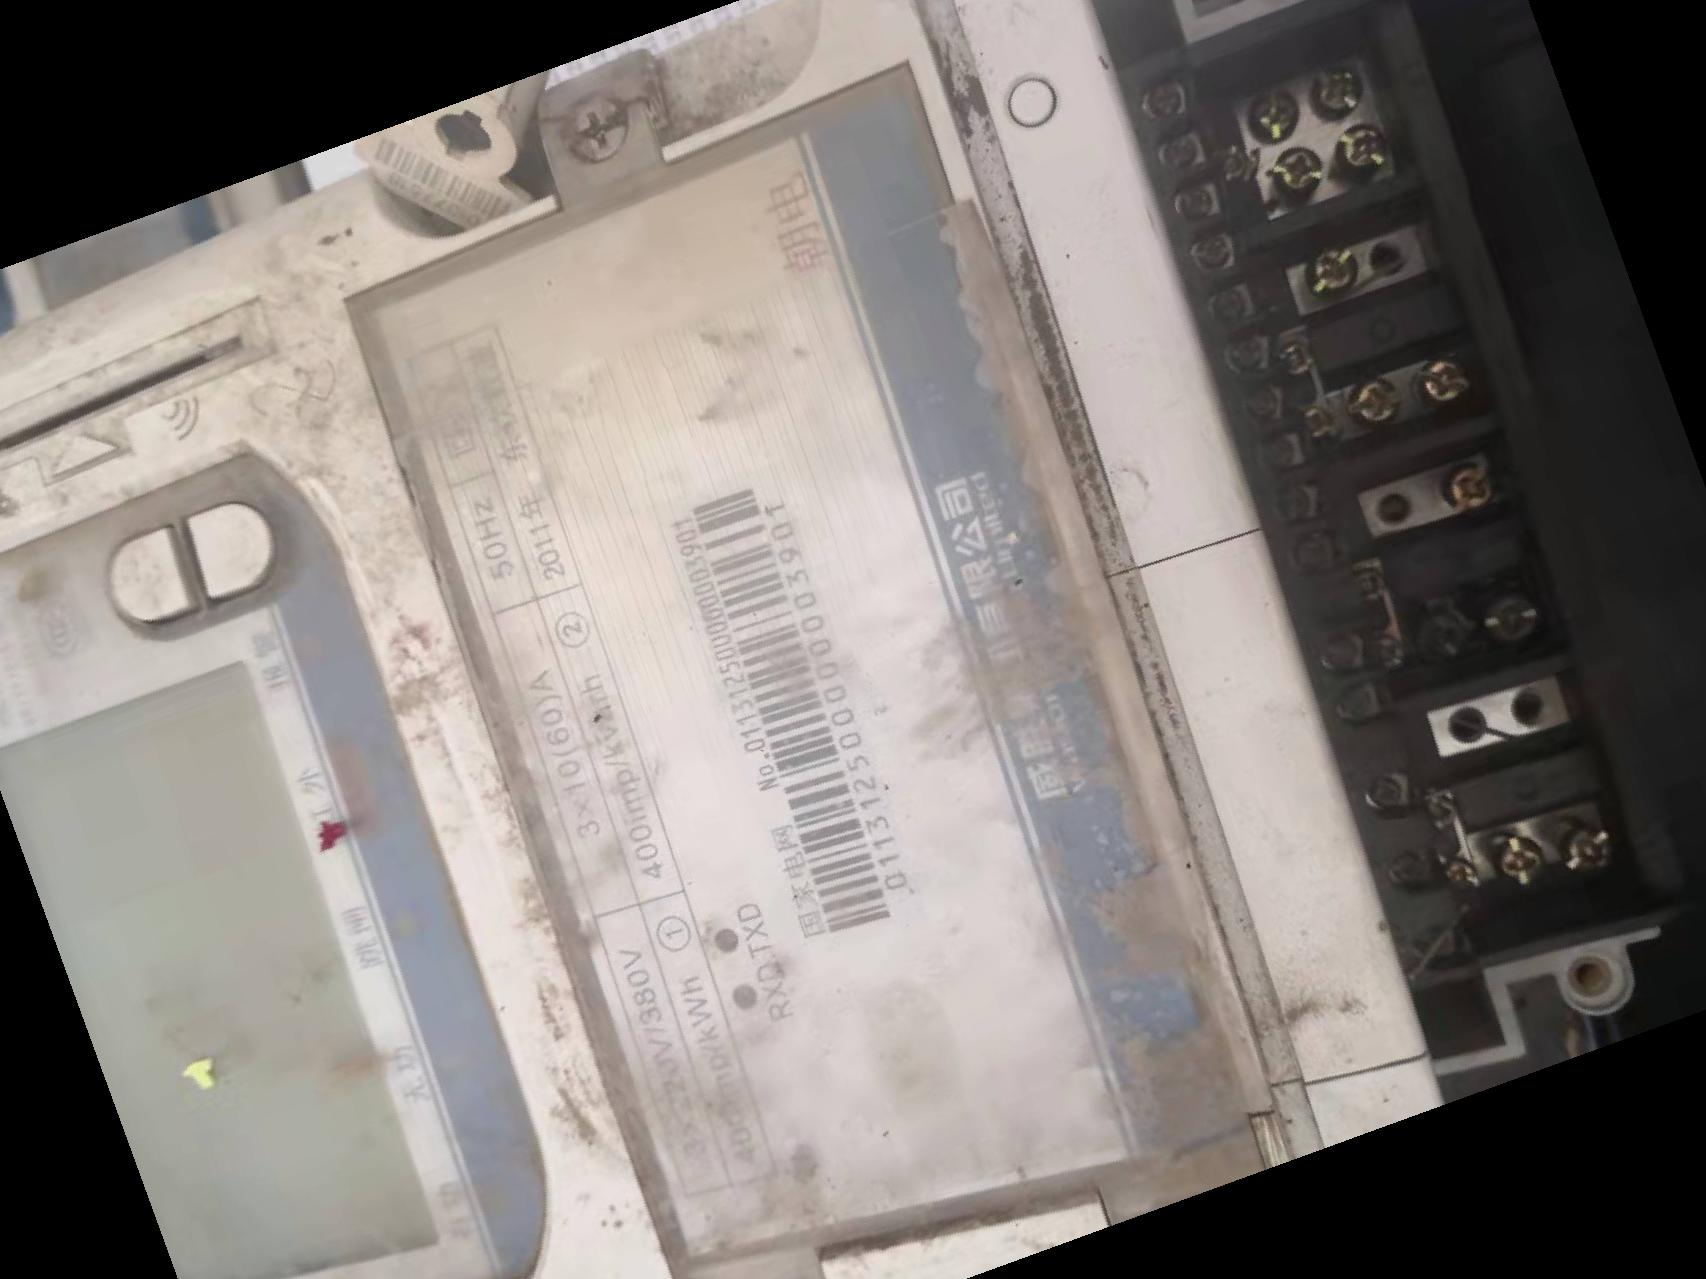digital: (1, 1, 1295, 1279)
